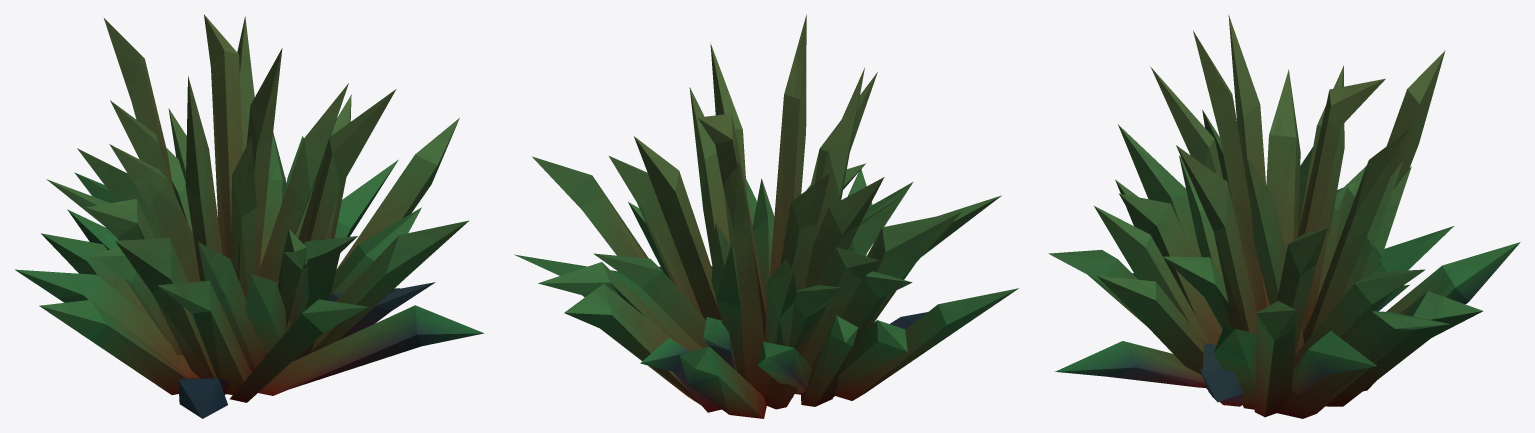
The model's file is synty-plant-grass-03.gltf.
3 renders of one model, left to right at view 1: azimuth 30°, elevation 25°; view 2: azimuth 150°, elevation 25°; view 3: azimuth 270°, elevation 25°, orthographic. The views are drawn at different scales.
Parts seen in each view (by area): view 1: SM_Plant_Grass_03; view 2: SM_Plant_Grass_03; view 3: SM_Plant_Grass_03.
Part boxes in pixels (<box>): SM_Plant_Grass_03: <box>15,14,483,418</box>; SM_Plant_Grass_03: <box>514,14,1018,418</box>; SM_Plant_Grass_03: <box>1048,15,1520,418</box>.
Bounding box in the file's own units: 0.9086 × 0.6554 × 0.7951.
1 material, 1 textured.
